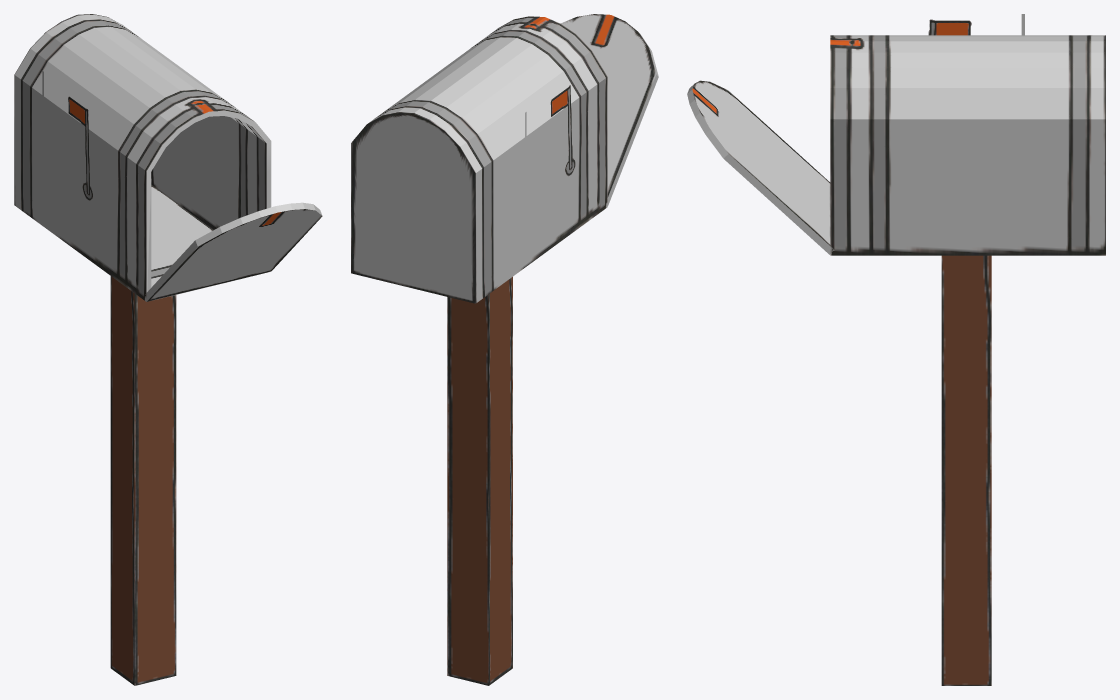
Rendered from PostBox.fbx.
3 renders of one model, left to right at view 1: azimuth 30°, elevation 25°; view 2: azimuth 150°, elevation 25°; view 3: azimuth 270°, elevation 25°, orthographic. The views are drawn at different scales.
Visible parts, largest first — view 1: PostBox; view 2: PostBox; view 3: PostBox.
Part boxes in pixels (x1,y1,x2,y2): PostBox: (14, 14, 322, 685); PostBox: (351, 14, 658, 685); PostBox: (687, 14, 1105, 685).
Size of the model in its own units: 32.56 by 140 by 83.6.
